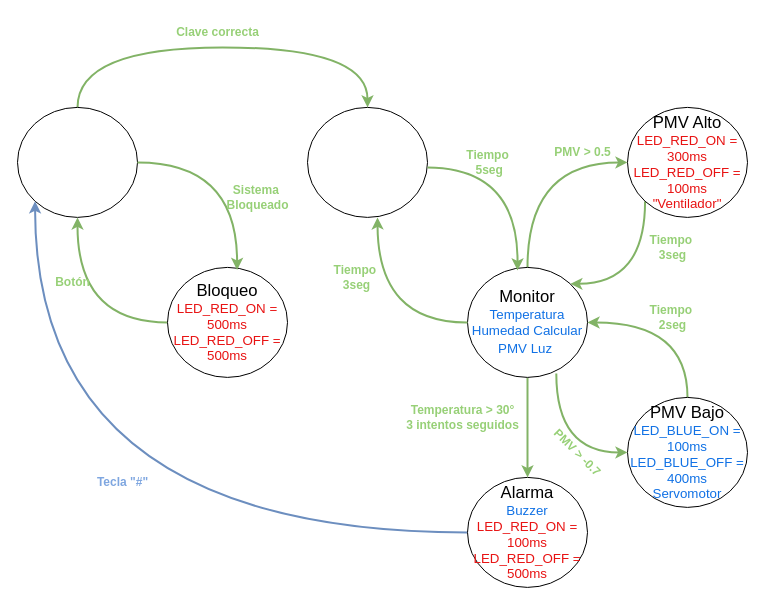
The diagram is 765 pixels wide and 605 high, and some of its shapes have lost their labels. Each missing label, with the centre of its shape:
Config "Leer TAG" "Guardar información": pixel 367 161
Inicio "Seguridad": pixel 77 161
